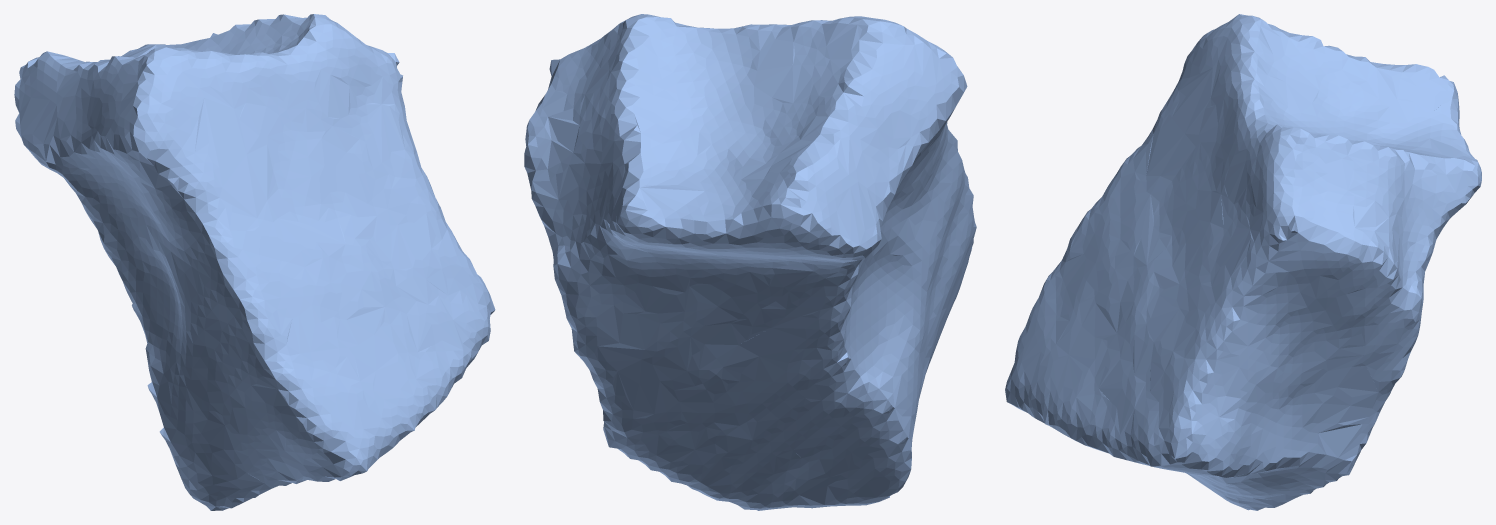
File: Model_38_RH__Area_8a_of_cortex__dorsal_part_(A8aD).obj
The picture shows the model from 3 angles, left to right: view 1: azimuth 30°, elevation 25°; view 2: azimuth 150°, elevation 25°; view 3: azimuth 270°, elevation 25°; orthographic projection. The views are drawn at different scales.
Bounding box in the file's own units: 3.18 × 3.79 × 3.7.
